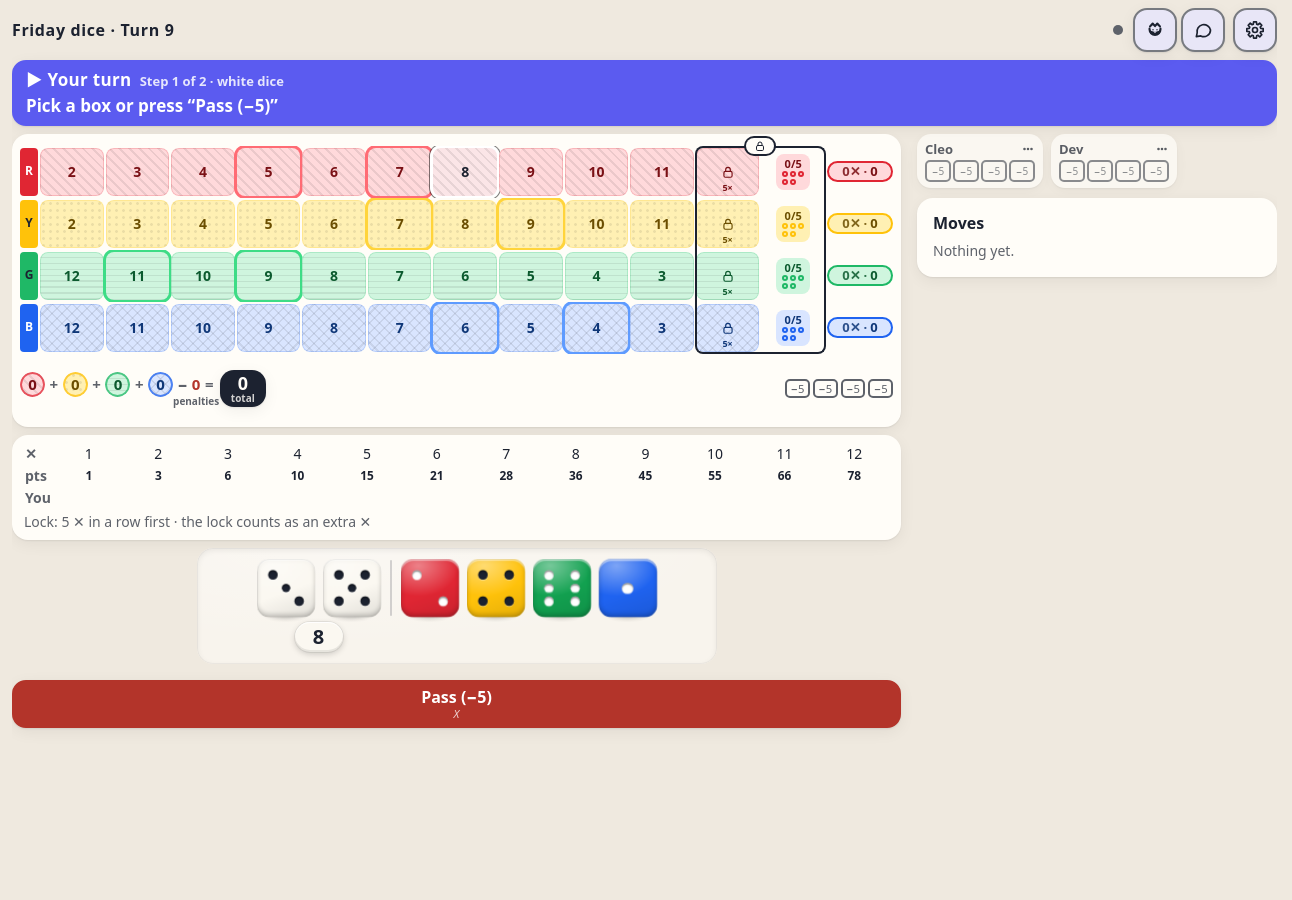
Test: selection in the game screen (T-NEW-19) › tapping a staged box unselects it; the white box takes the colour box with it
Click the button named "Red 8, can mark" at (465, 172), box [434,148,497,196]
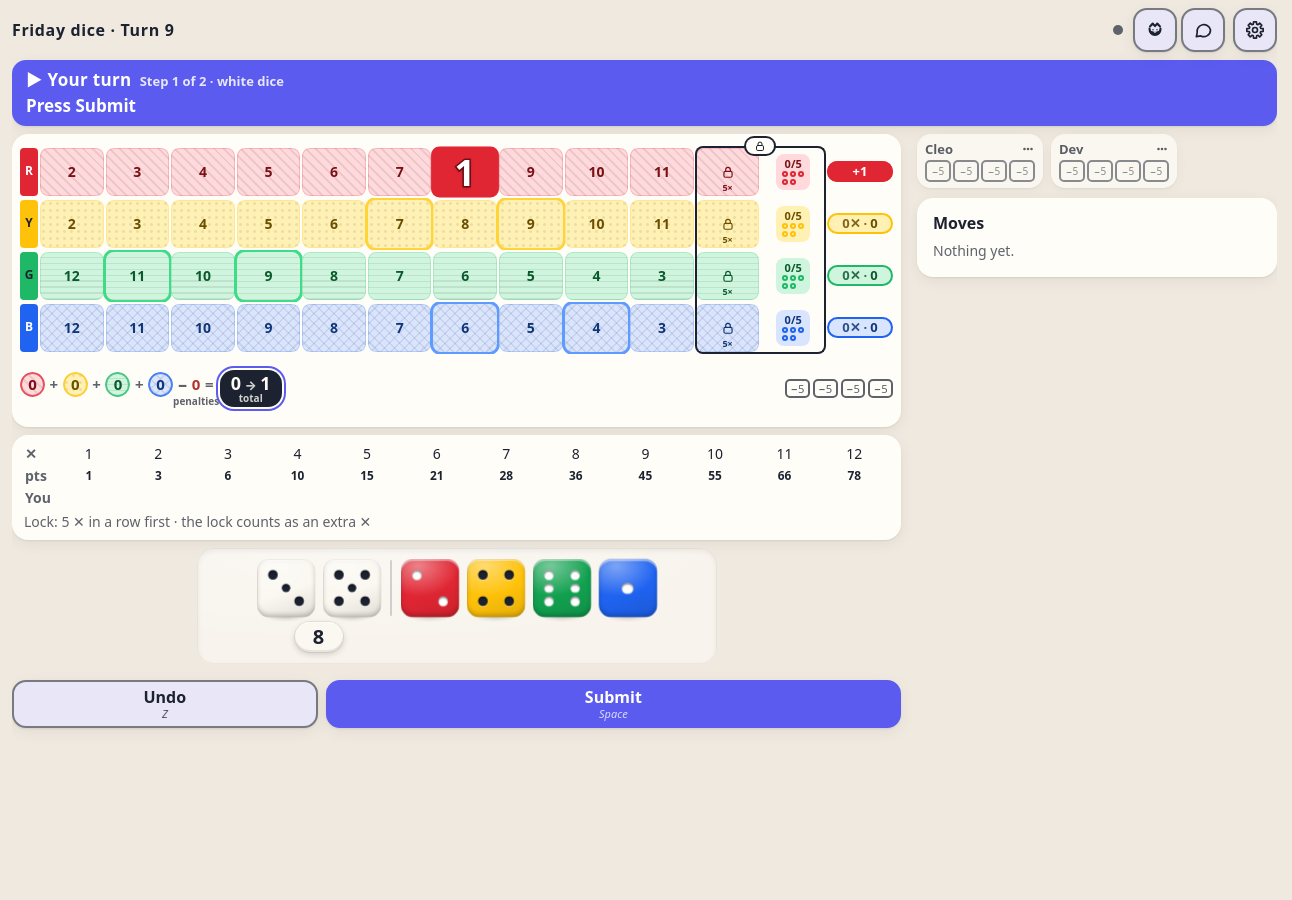
Click the button named "Green 11, can mark" at (137, 276), box [106,252,169,300]
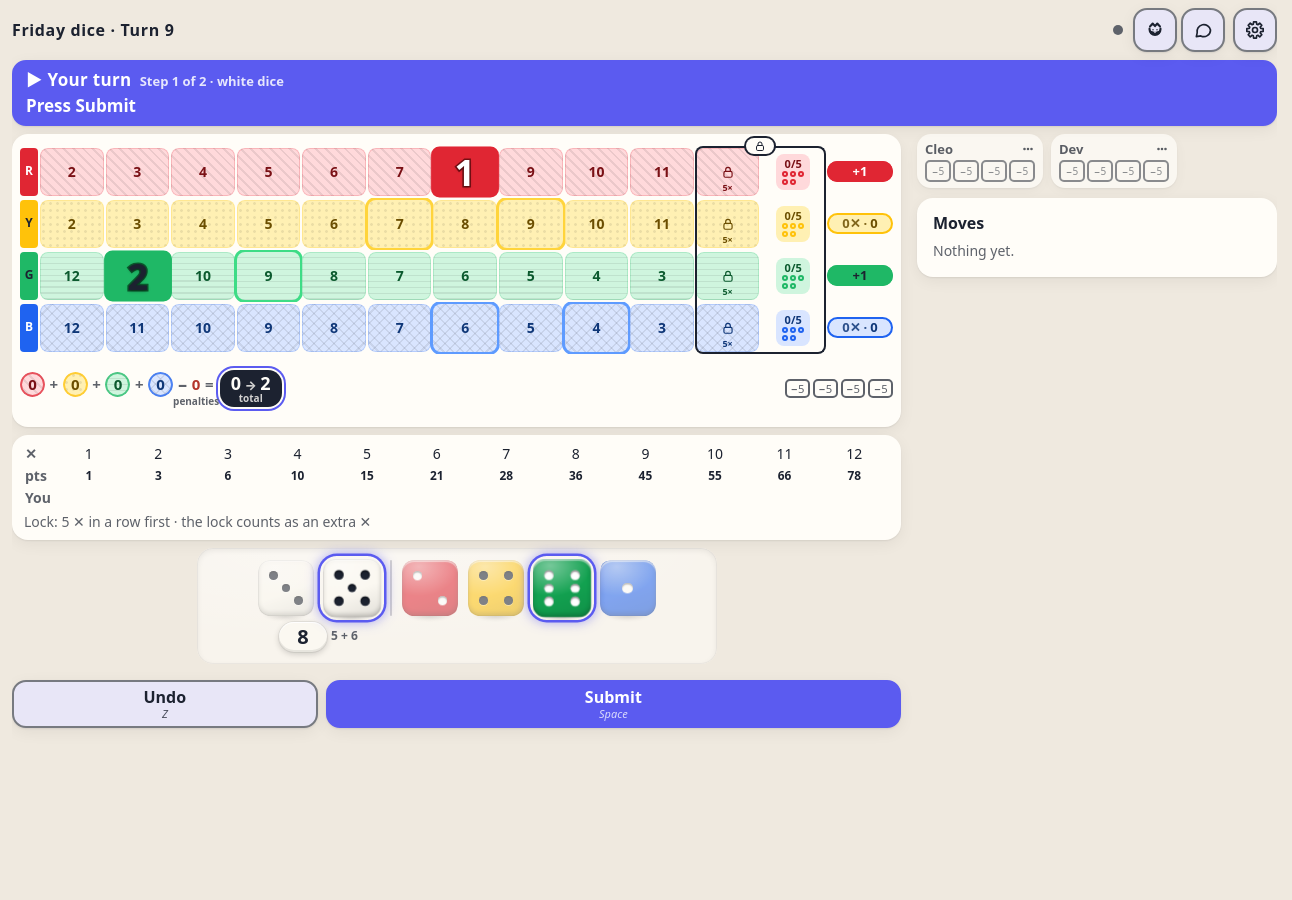
// The colour box alone.
Click the button named "Green 11, can mark, step 2" at (137, 276), box [104,250,171,301]
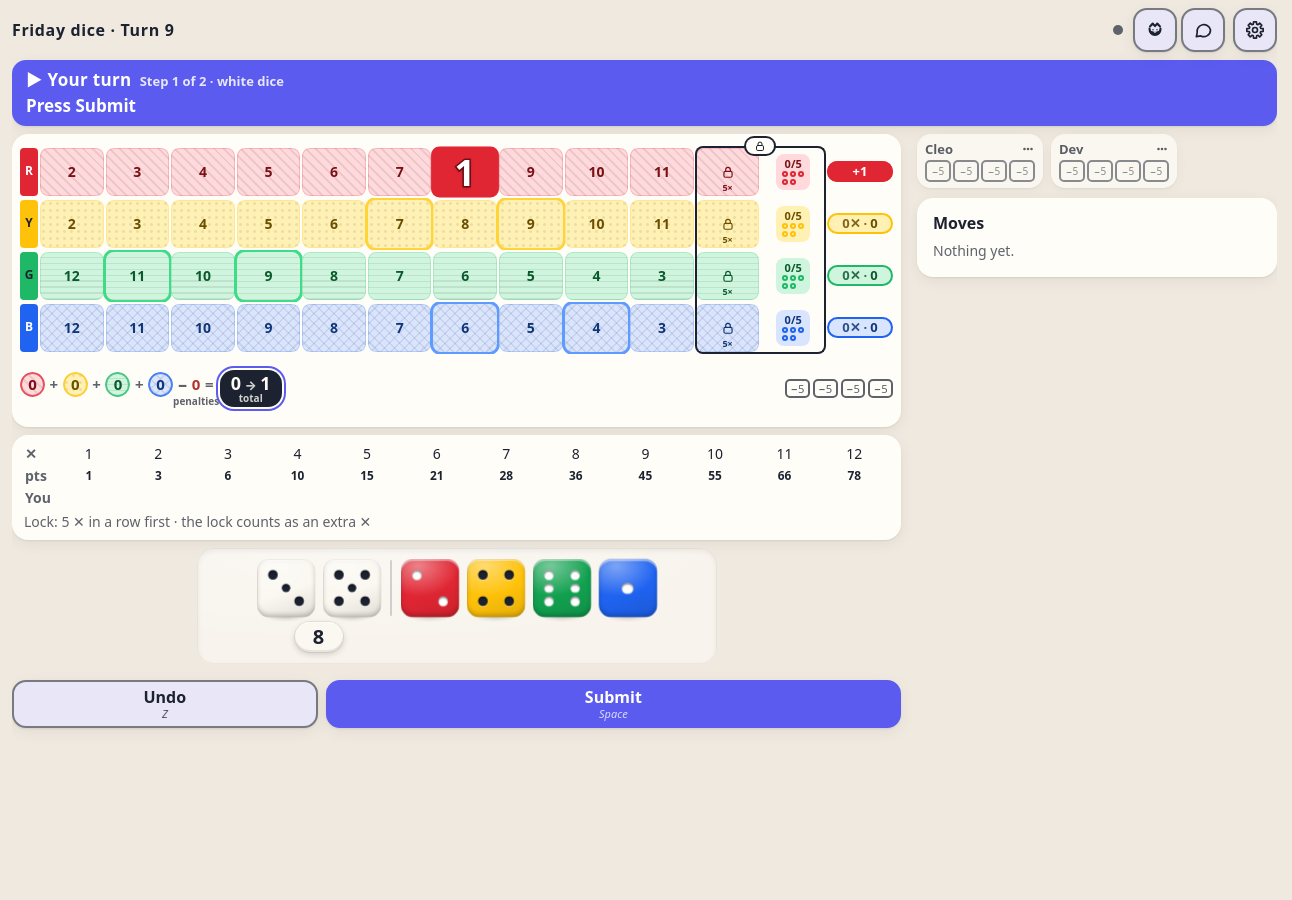
// Back to both, then unselect the white box: both go.
Click the button named "Green 11, can mark" at (137, 276), box [106,252,169,300]
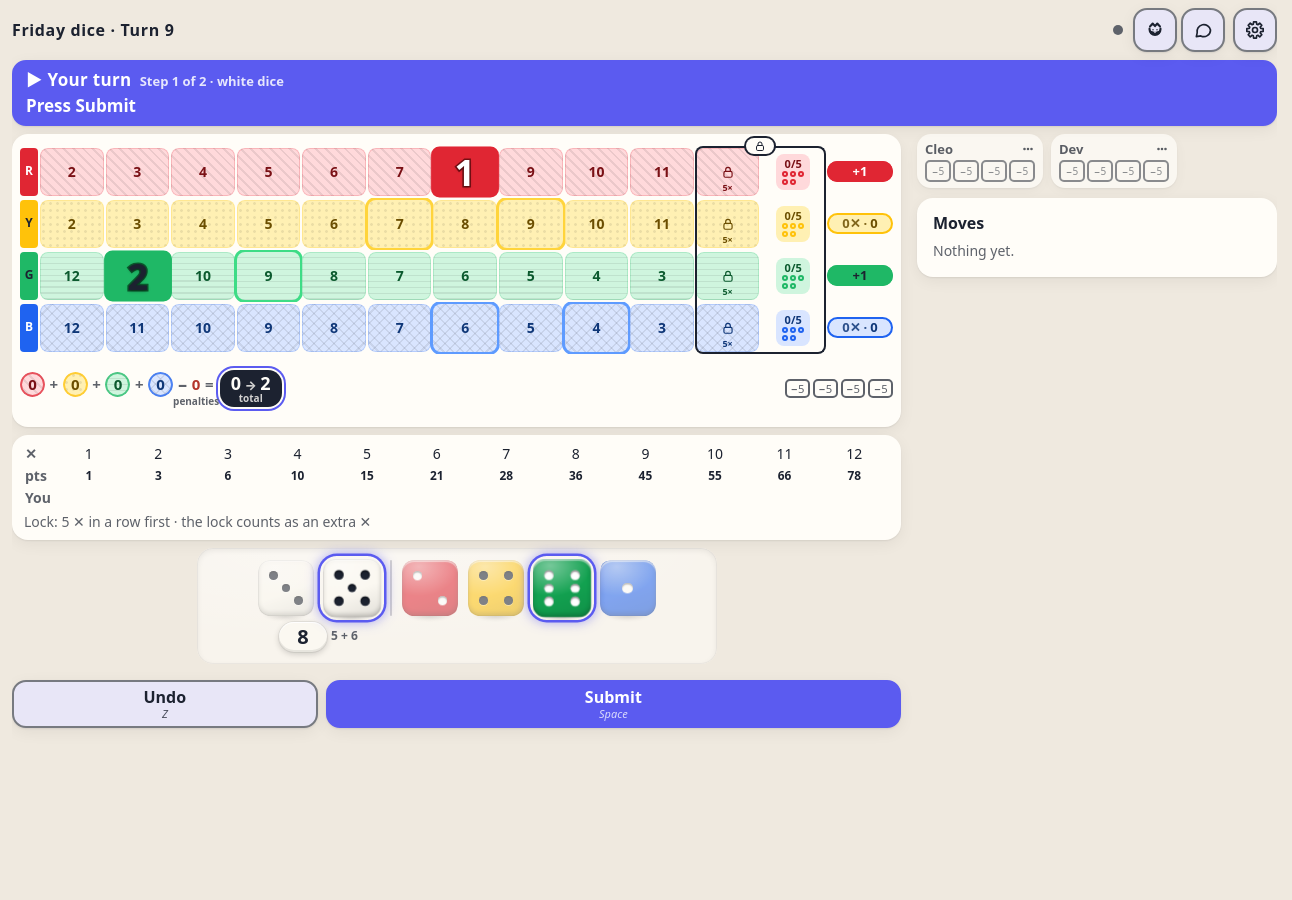
Click the button named "Red 8, can mark, step 1" at (465, 172), box [432,146,499,197]
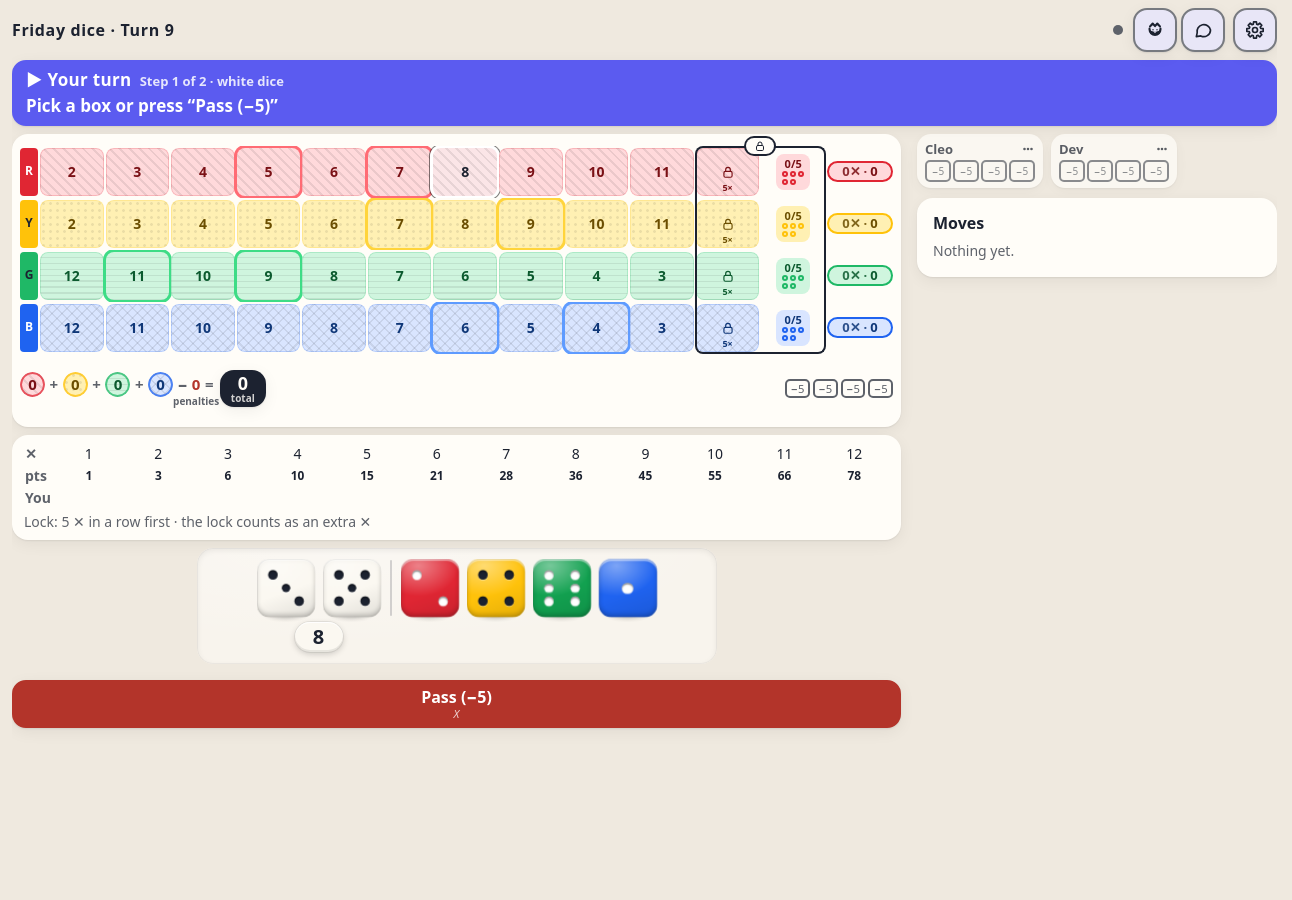
Expected: the button "Undo" is gone
